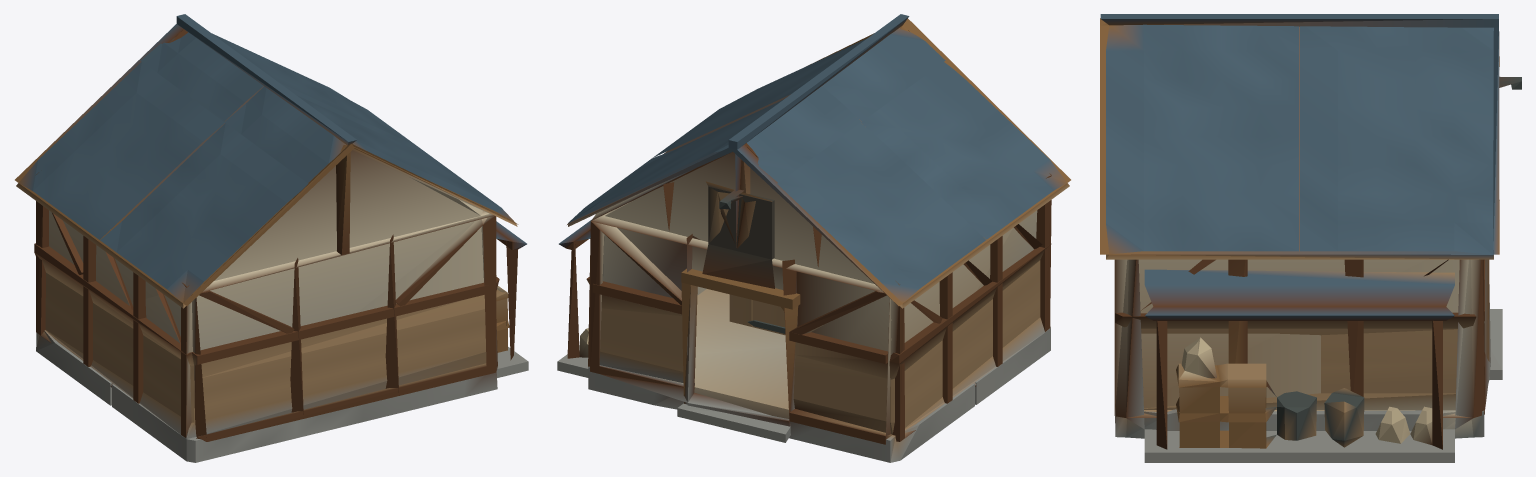
Rendered from StorageHall.glb.
3 views of the same model, side by side, from view 1: azimuth 30°, elevation 25°; view 2: azimuth 150°, elevation 25°; view 3: azimuth 270°, elevation 25° (orthographic). The views are drawn at different scales.
Visible parts, largest first — view 1: StorageHallBody_P0_LOD1; view 2: StorageHallBody_P0_LOD1, StorageHallDoor_P0_LOD1; view 3: StorageHallBody_P0_LOD1.
Part boxes in pixels (x1=…): StorageHallBody_P0_LOD1: x1=15, y1=14, x2=528, y2=462; StorageHallBody_P0_LOD1: x1=557, y1=14, x2=1070, y2=462; StorageHallDoor_P0_LOD1: x1=729, y1=294, x2=785, y2=335; StorageHallBody_P0_LOD1: x1=1100, y1=14, x2=1521, y2=462.
Size of the model in its own units: 8.35 by 6.42 by 7.28.
